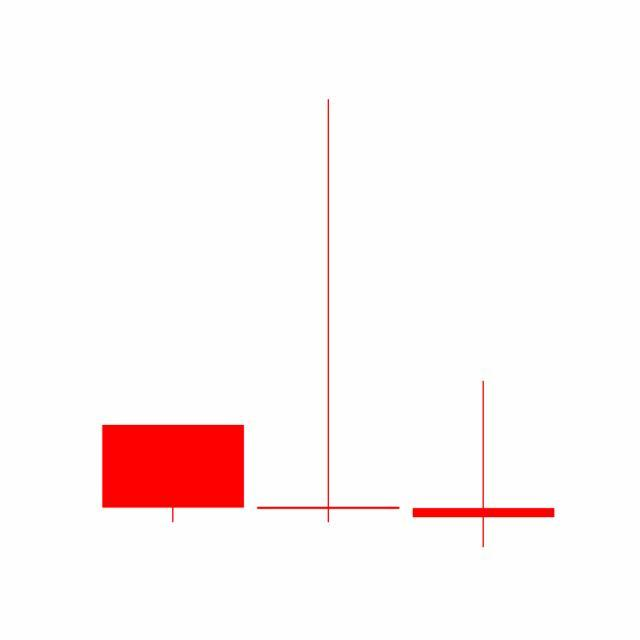Spinning Top: (406, 379, 562, 551)
